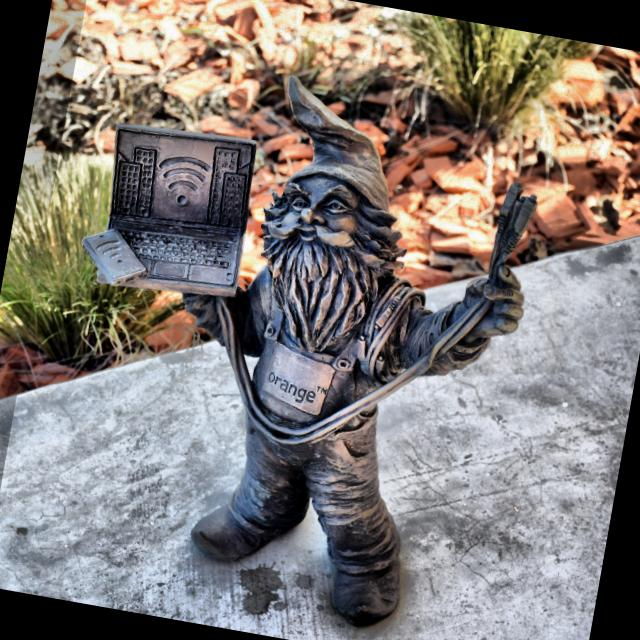Krasnal_Teleclaw: (82, 76, 535, 625)
